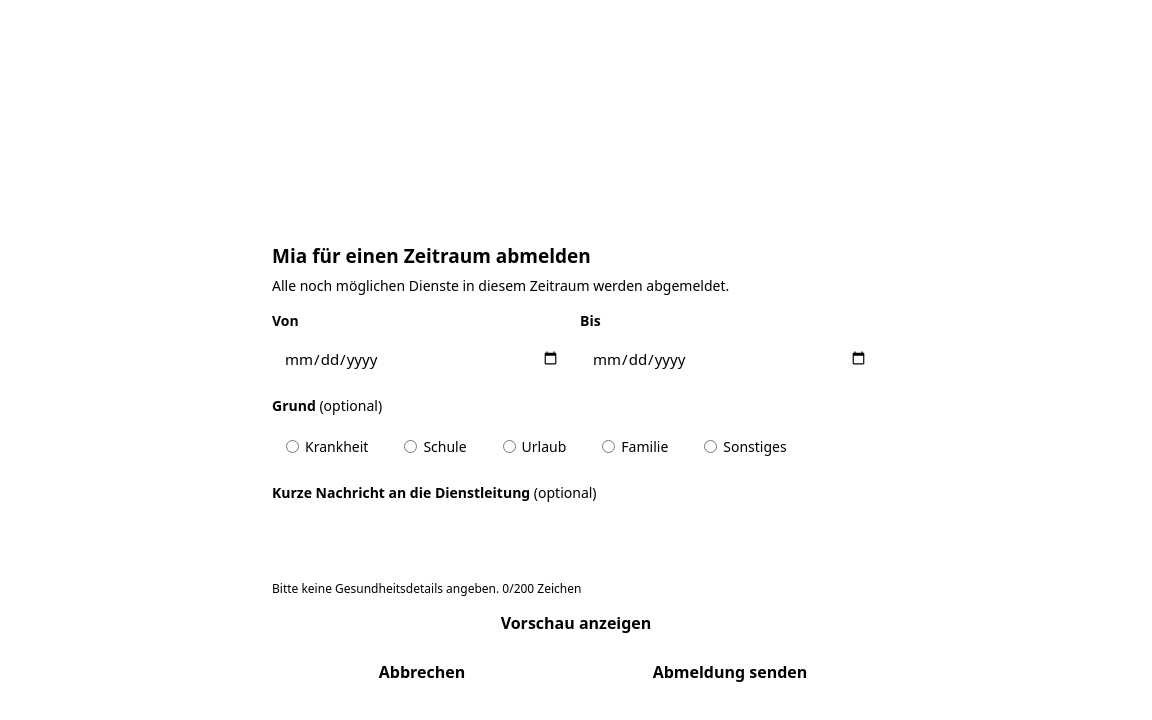
PortalAbsenceDialog › drops the preview when the range changes and shows server errors
In the date field with id "absence-from": (422, 359) x1=272 y1=336 x2=572 y2=381, type "2026-10-10"
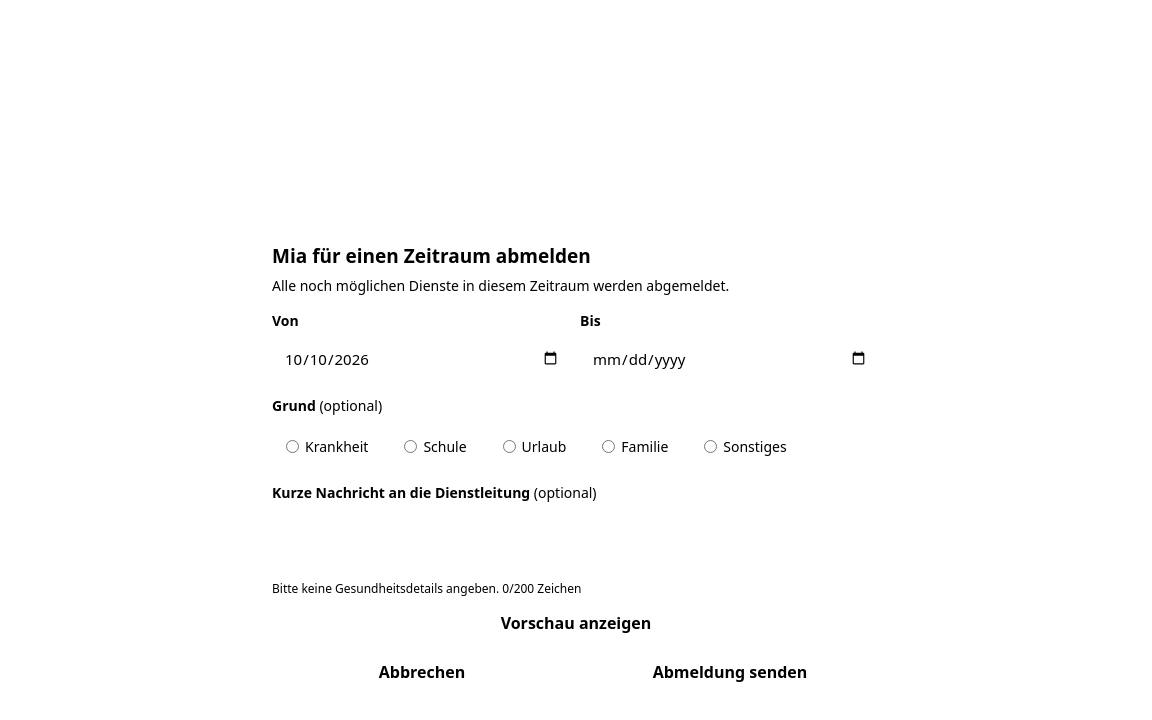
In the date field with id "absence-to": (730, 359) x1=580 y1=336 x2=880 y2=381, type "2026-10-20"
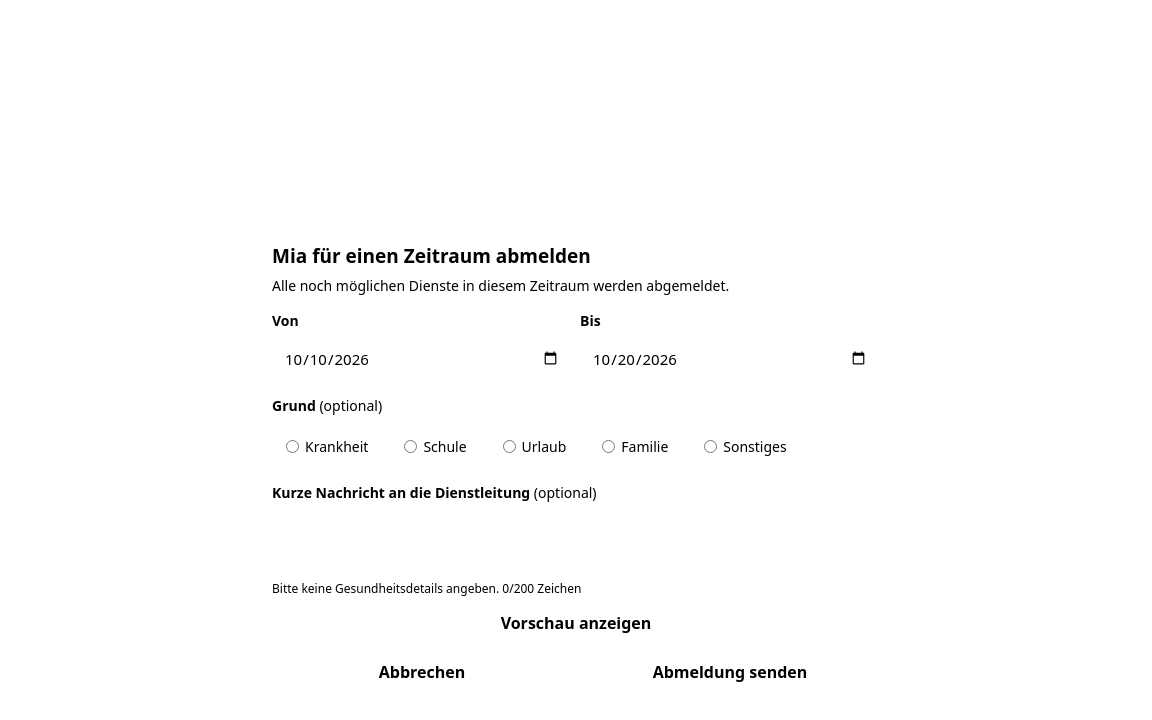
Click the button "Vorschau anzeigen": (576, 623) x1=272 y1=612 x2=880 y2=634
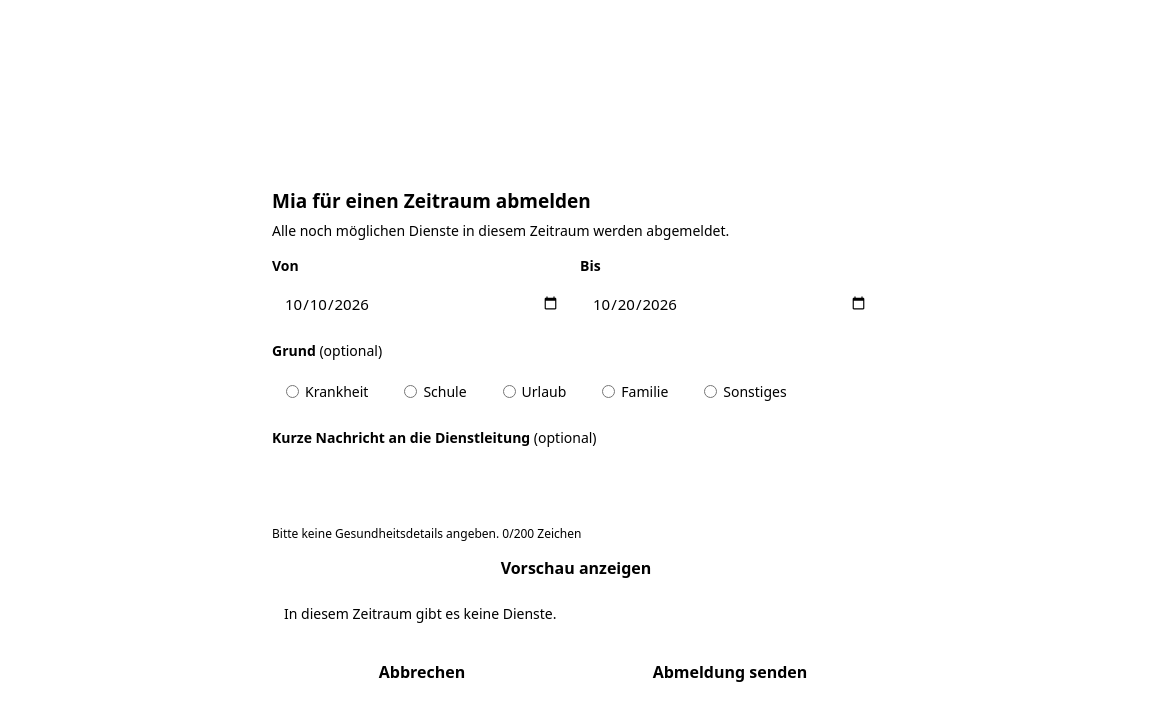
Check: the text "In diesem Zeitraum gibt es keine Dienste." is shown, box x1=284 y1=604 x2=556 y2=623
In the date field with id "absence-to": (730, 304) x1=580 y1=282 x2=880 y2=326, type "2026-10-25"
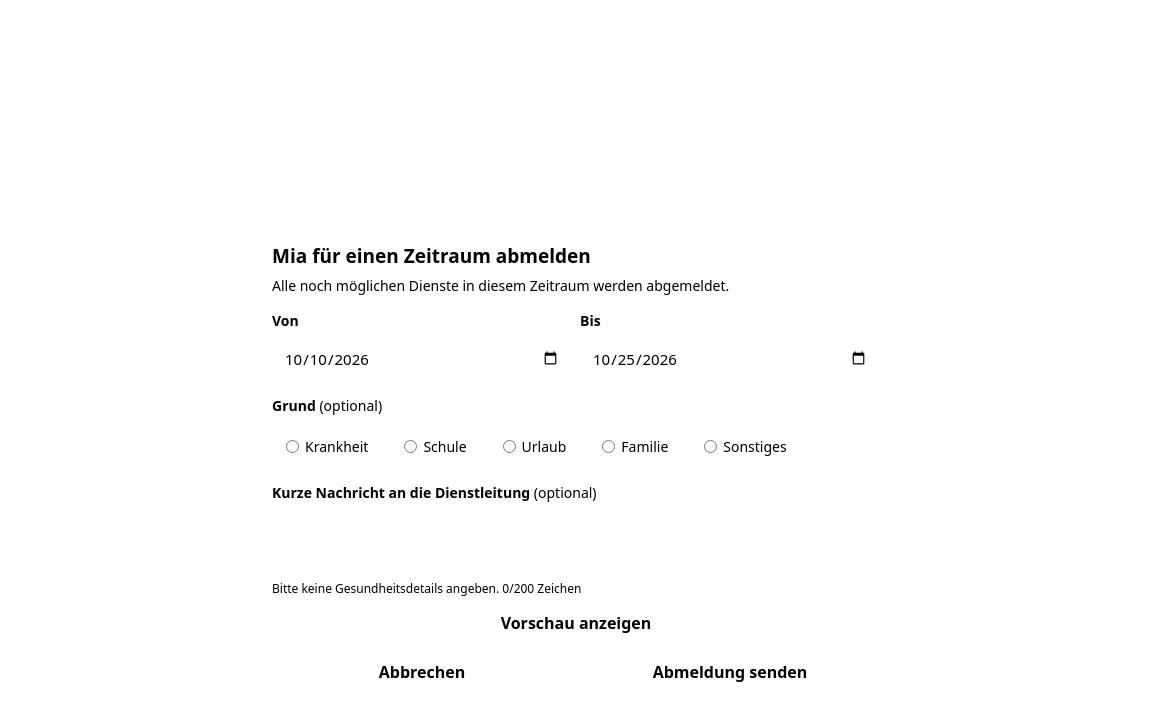
Click the button "Vorschau anzeigen": (576, 623) x1=272 y1=612 x2=880 y2=634
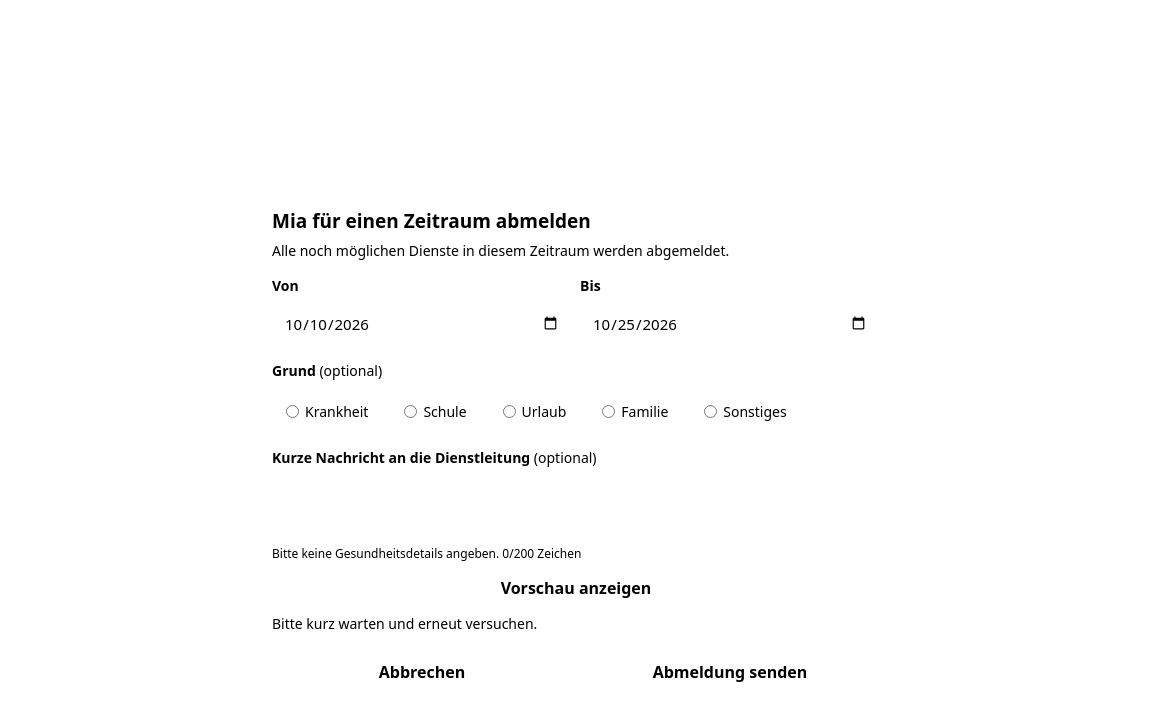
Check: the message "Bitte kurz warten und erneut versuchen." is shown, box x1=272 y1=614 x2=537 y2=633
